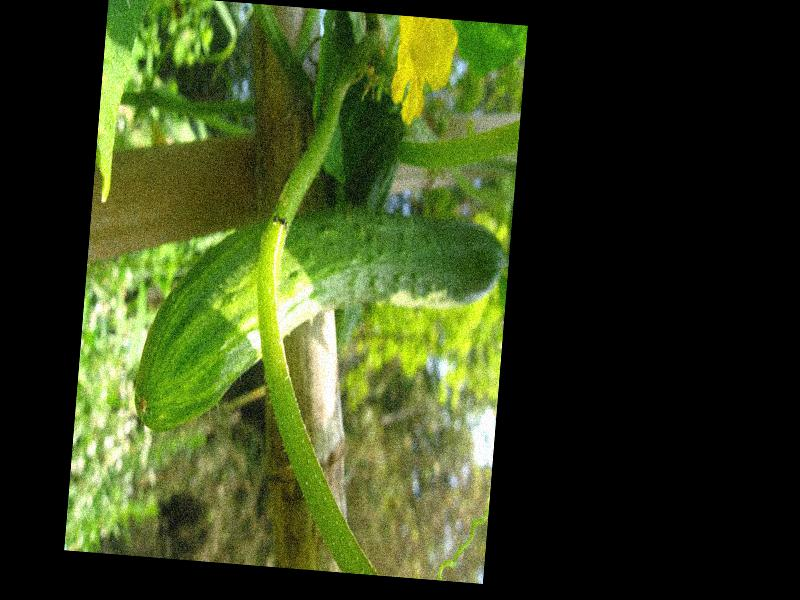Cucumber: (131, 192, 509, 455)
